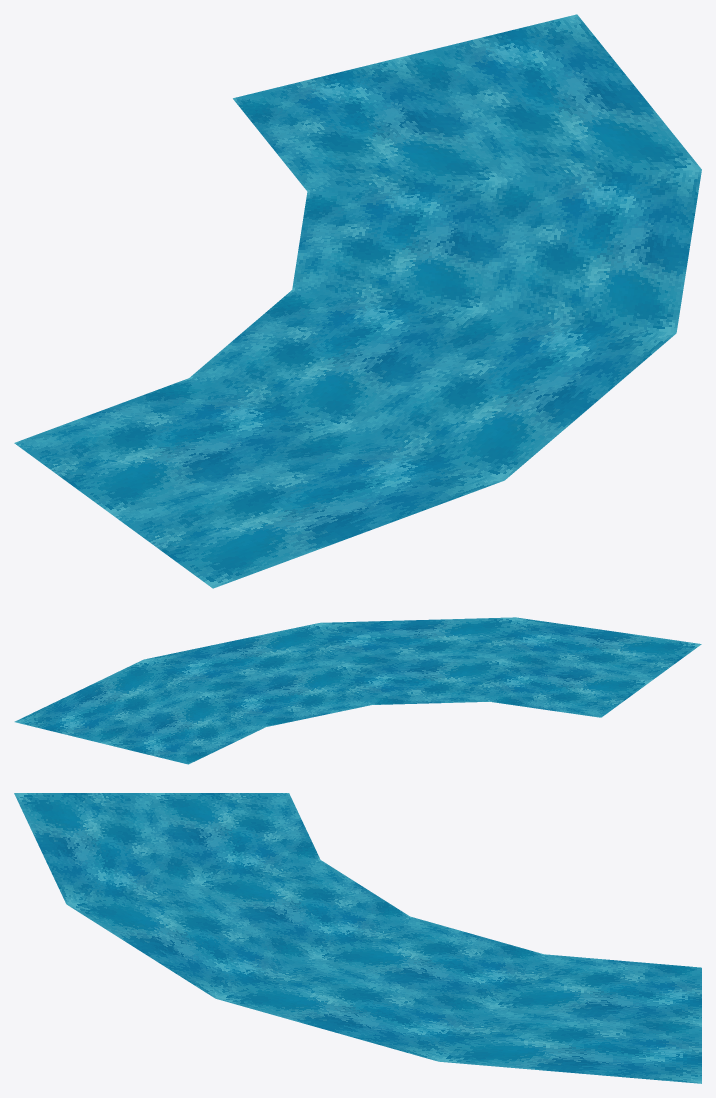
The model's file is Terrain_Water_River_Curve_CCW_5x5.glb.
3 renders of one model, top to bottom at view 1: azimuth 30°, elevation 25°; view 2: azimuth 150°, elevation 25°; view 3: azimuth 270°, elevation 25°, orthographic. The views are drawn at different scales.
Visible parts, largest first — view 1: Terrain_Water_River_Curve_CCW_5x5; view 2: Terrain_Water_River_Curve_CCW_5x5; view 3: Terrain_Water_River_Curve_CCW_5x5.
Part boxes in pixels (x1=…): Terrain_Water_River_Curve_CCW_5x5: x1=14, y1=14, x2=701, y2=588; Terrain_Water_River_Curve_CCW_5x5: x1=14, y1=617, x2=701, y2=764; Terrain_Water_River_Curve_CCW_5x5: x1=14, y1=793, x2=701, y2=1083.
Size of the model in its own units: 5 by 6.68e-07 by 5.
1 material, 1 textured.
